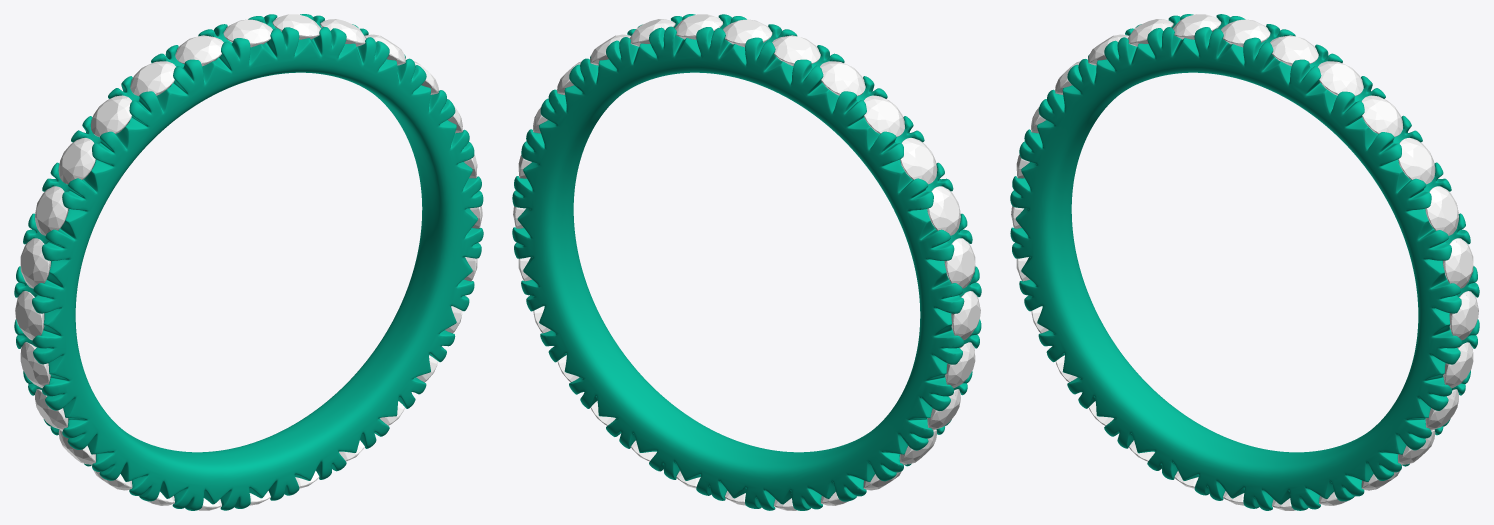
Rendered from BE2M3420ET_RENDER.glb.
3 views of the same model, side by side, from view 1: azimuth 30°, elevation 25°; view 2: azimuth 150°, elevation 25°; view 3: azimuth 330°, elevation 25° (orthographic).
Visible parts, largest first — view 1: Metal03, Diamond_Round_Gem_BD.004, Diamond_Round_Gem_BD.003, Diamond_Round_Gem_BD.005, Diamond_Round_Gem_BD.002, Diamond_Round_Gem_BD.006, Diamond_Round_Gem_BD.001, Diamond_Round_Gem_BD.007, Diamond_Round_Gem_BD, Diamond_Round_Gem_BD.008, Diamond_Round_Gem_BD.027, Diamond_Round_Gem_BD.009 (+1 smaller); view 2: Metal03, Diamond_Round_Gem_BD.004, Diamond_Round_Gem_BD.003, Diamond_Round_Gem_BD.005, Diamond_Round_Gem_BD.002, Diamond_Round_Gem_BD.006, Diamond_Round_Gem_BD.001, Diamond_Round_Gem_BD.007, Diamond_Round_Gem_BD, Diamond_Round_Gem_BD.008, Diamond_Round_Gem_BD.027, Diamond_Round_Gem_BD.009 (+1 smaller); view 3: Metal03, Diamond_Round_Gem_BD.024, Diamond_Round_Gem_BD.025, Diamond_Round_Gem_BD.023, Diamond_Round_Gem_BD.026, Diamond_Round_Gem_BD.022, Diamond_Round_Gem_BD.027, Diamond_Round_Gem_BD.021, Diamond_Round_Gem_BD, Diamond_Round_Gem_BD.020, Diamond_Round_Gem_BD.001, Diamond_Round_Gem_BD.019 (+1 smaller).
Boxes of the visible parts, x1,y1,x2,y2 form: Metal03: [14, 14, 483, 510]; Diamond_Round_Gem_BD.004: [58, 138, 95, 184]; Diamond_Round_Gem_BD.003: [91, 95, 131, 137]; Diamond_Round_Gem_BD.005: [35, 186, 68, 235]; Diamond_Round_Gem_BD.002: [130, 61, 175, 96]; Diamond_Round_Gem_BD.006: [20, 238, 50, 288]; Diamond_Round_Gem_BD.001: [175, 35, 223, 66]; Diamond_Round_Gem_BD.007: [15, 291, 44, 340]; Diamond_Round_Gem_BD: [223, 19, 272, 47]; Diamond_Round_Gem_BD.008: [20, 342, 50, 388]; Diamond_Round_Gem_BD.027: [272, 14, 321, 39]; Diamond_Round_Gem_BD.009: [35, 389, 68, 430]; Metal03: [512, 14, 981, 510]; Diamond_Round_Gem_BD.004: [900, 138, 937, 184]; Diamond_Round_Gem_BD.003: [864, 95, 904, 136]; Diamond_Round_Gem_BD.005: [927, 186, 960, 235]; Diamond_Round_Gem_BD.002: [820, 61, 865, 96]; Diamond_Round_Gem_BD.006: [944, 238, 975, 288]; Diamond_Round_Gem_BD.001: [772, 35, 820, 66]; Diamond_Round_Gem_BD.007: [951, 291, 980, 340]; Diamond_Round_Gem_BD: [723, 19, 772, 47]; Diamond_Round_Gem_BD.008: [945, 342, 975, 388]; Diamond_Round_Gem_BD.027: [675, 14, 722, 39]; Diamond_Round_Gem_BD.009: [927, 389, 960, 430]; Metal03: [1010, 14, 1479, 510]; Diamond_Round_Gem_BD.024: [1398, 138, 1435, 184]; Diamond_Round_Gem_BD.025: [1361, 95, 1402, 136]; Diamond_Round_Gem_BD.023: [1425, 186, 1458, 235]; Diamond_Round_Gem_BD.026: [1318, 61, 1363, 96]; Diamond_Round_Gem_BD.022: [1443, 238, 1473, 288]; Diamond_Round_Gem_BD.027: [1270, 35, 1318, 66]; Diamond_Round_Gem_BD.021: [1449, 291, 1478, 340]; Diamond_Round_Gem_BD: [1221, 19, 1270, 47]; Diamond_Round_Gem_BD.020: [1443, 342, 1473, 388]; Diamond_Round_Gem_BD.001: [1172, 14, 1221, 39]; Diamond_Round_Gem_BD.019: [1425, 389, 1458, 430].
Size of the model in its own units: 20.64 by 20.64 by 2.29.
